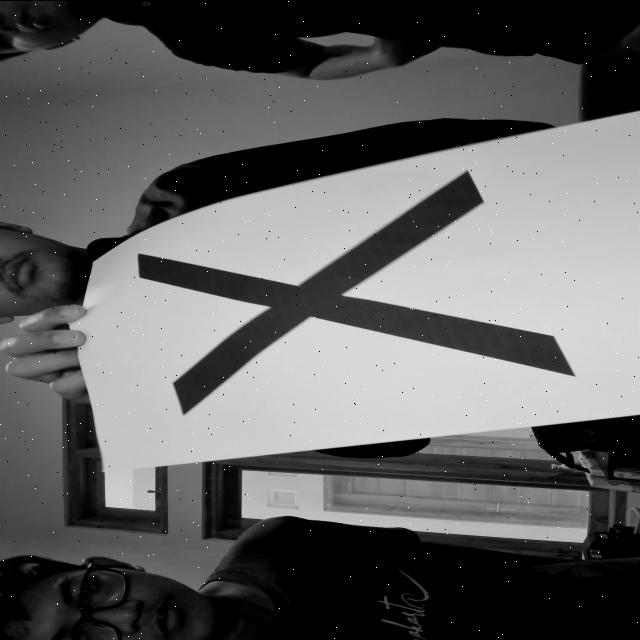x: (122, 160, 578, 440)
